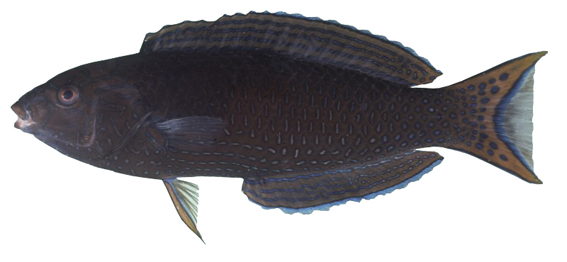fish: (11, 10, 547, 244)
